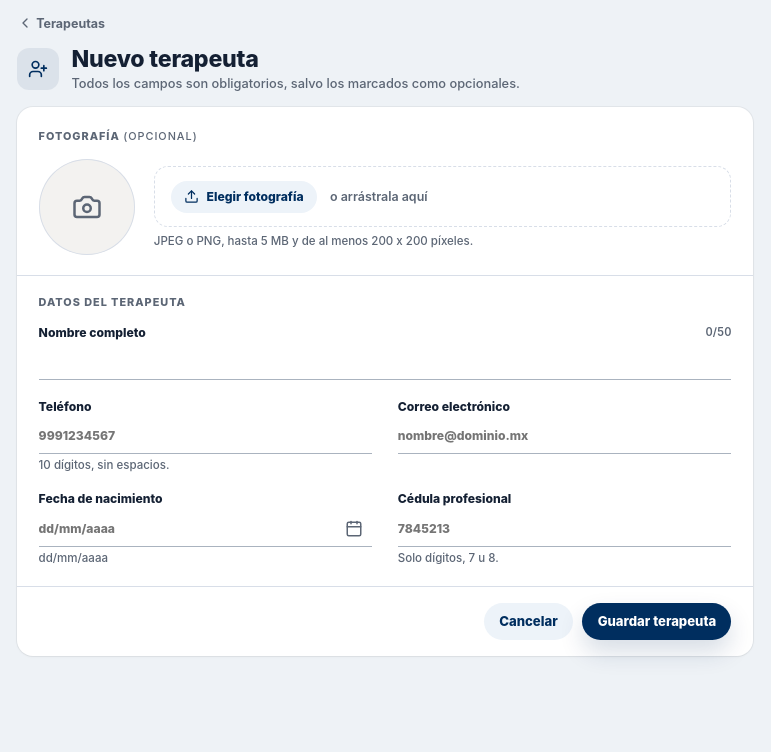
Test case: registro de terapeutas (EDT 4.3.4) › no envía con campos obligatorios vacíos y enfoca el primer error (CA-2.1-06)
The image size is (771, 752).
Click the button "Guardar terapeuta" at (657, 621), box [582,603,731,640]
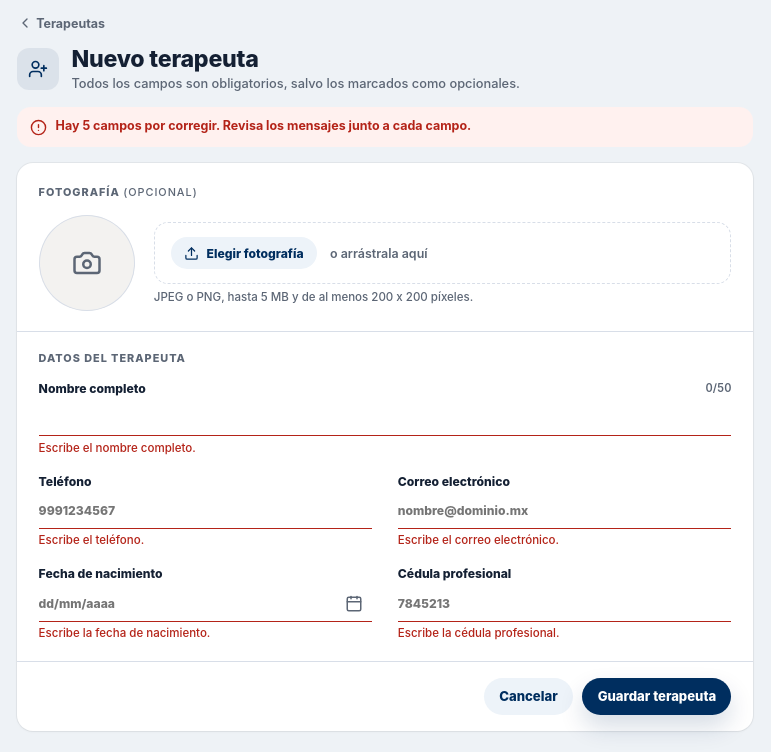
Result: the text "Hay 5 campos por corregir. Revisa los mensajes junto a cada campo." is shown at [56,118,471,133]
Result: the text "Escribe el nombre completo." is shown at [39,441,196,455]
Result: the text "Escribe el teléfono." is shown at [39,534,144,548]
